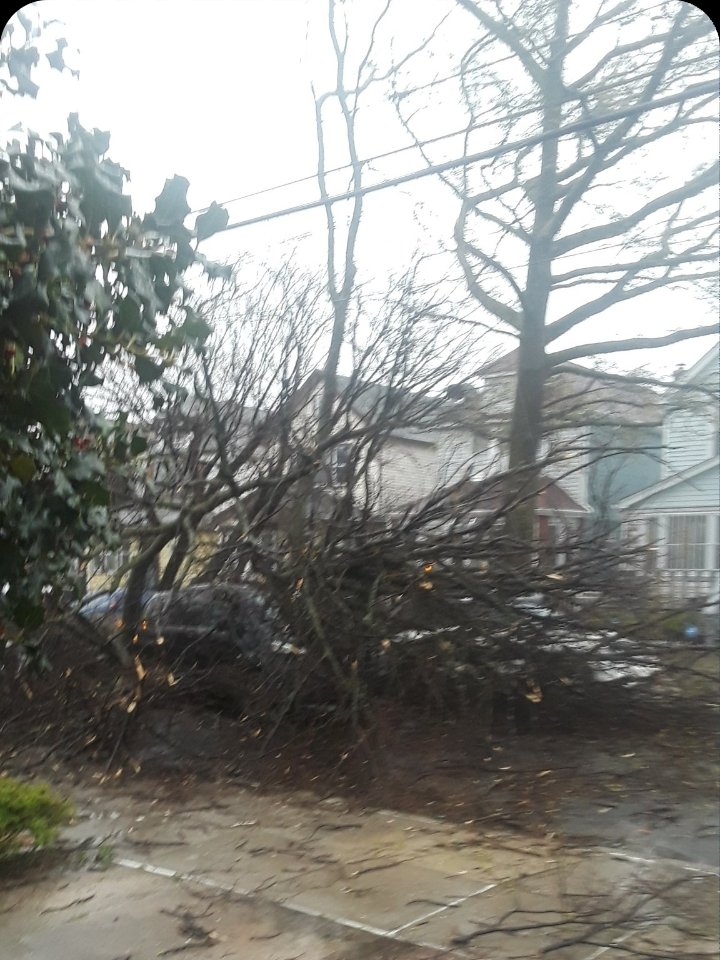vegetation: (1, 1, 720, 795)
